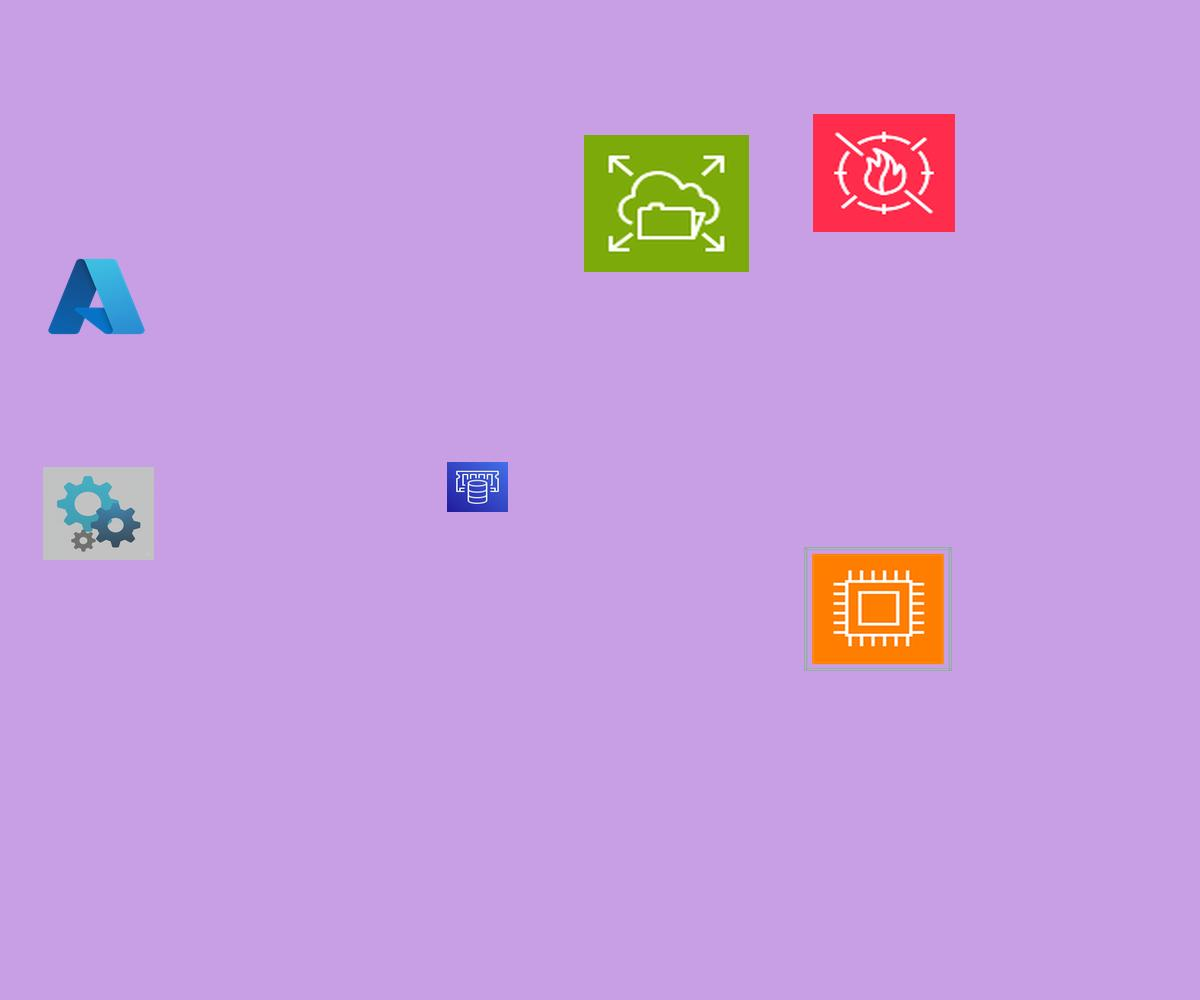AWS-Category_Compute: (804, 547, 952, 671)
AWS-EFS: (584, 135, 749, 272)
AWS-ElastiCache: (447, 462, 508, 512)
AWS-WAF: (813, 114, 955, 232)
Azure_api: (43, 467, 154, 560)
Azure_services: (44, 253, 149, 340)
